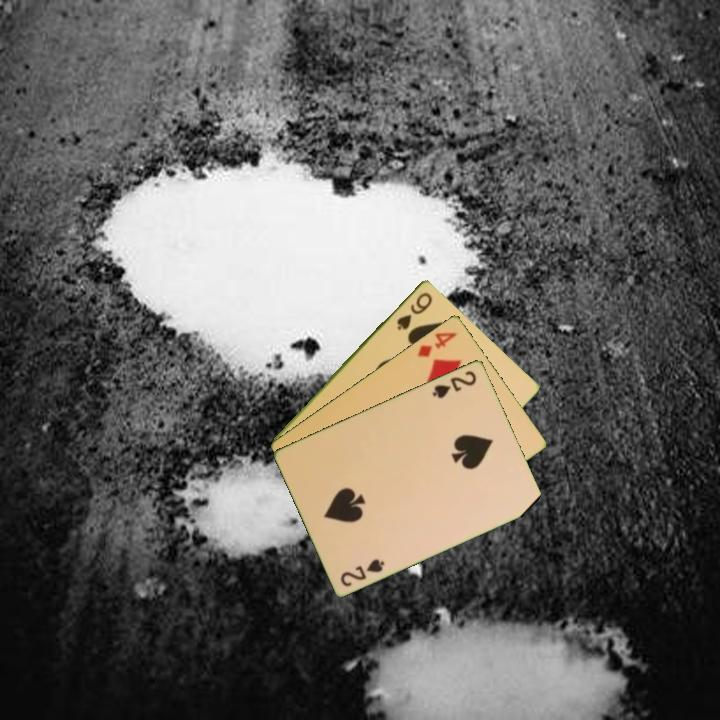2s: (429, 367, 480, 401), (337, 555, 388, 589)
4d: (413, 328, 460, 360)
9s: (393, 289, 435, 333)
